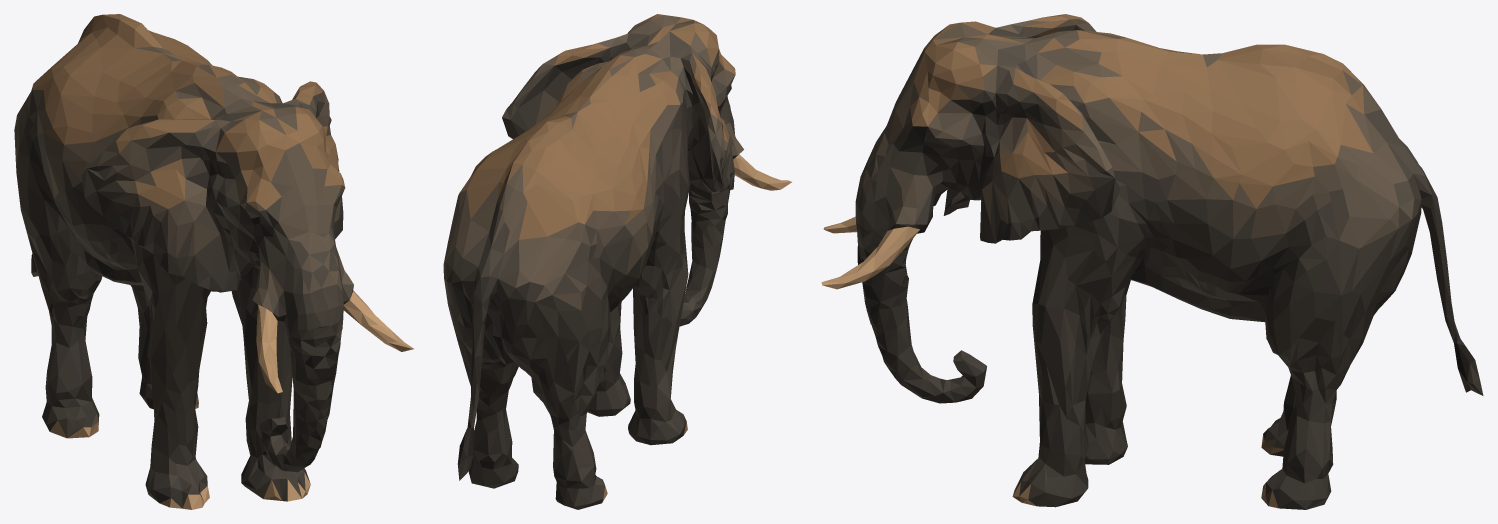
File: loxodonta_africana.glb
3 renders of one model, left to right at view 1: azimuth 30°, elevation 25°; view 2: azimuth 150°, elevation 25°; view 3: azimuth 270°, elevation 25°, orthographic. The views are drawn at different scales.
Visible parts, largest first — view 1: lod0; view 2: lod0; view 3: lod0.
Boxes of the visible parts, box(x1,y1,x2,y2) form: lod0: box(14, 14, 413, 509); lod0: box(443, 14, 791, 509); lod0: box(821, 14, 1483, 509).
Size of what is drawn, in the model's own units: 1.78 by 2.86 by 3.89.
